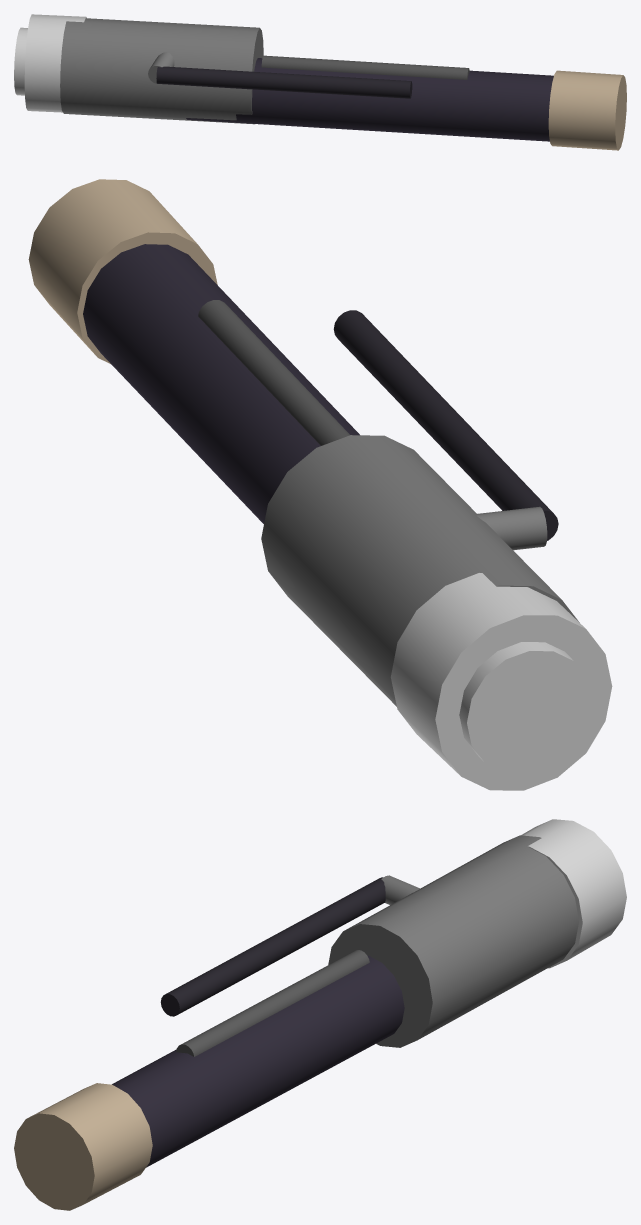
Rendered from CMU3DUtilityRMCFlashlightPenCloud.glb.
The picture shows the model from 3 angles, top to bottom: view 1: azimuth 30°, elevation 25°; view 2: azimuth 150°, elevation 25°; view 3: azimuth 270°, elevation 25°; orthographic projection. The views are drawn at different scales.
Visible parts, largest first — view 1: light head collar, narrow penlight shaft, lower warm end cap, side pocket clip, silver head rim, barrel middle highlight, white lens face, clip return; view 2: light head collar, narrow penlight shaft, silver head rim, white lens face, lower warm end cap, side pocket clip, barrel middle highlight, clip return; view 3: light head collar, narrow penlight shaft, lower warm end cap, silver head rim, side pocket clip, barrel middle highlight, clip return.
Part boxes in pixels (x1,y1,x2,y2): light head collar: (60, 18, 263, 124); narrow penlight shaft: (186, 58, 553, 141); lower warm end cap: (548, 70, 626, 150); side pocket clip: (156, 66, 412, 98); silver head rim: (24, 14, 86, 112); barrel middle highlight: (261, 55, 469, 79); white lens face: (14, 27, 27, 95); clip return: (148, 52, 174, 83); light head collar: (261, 435, 579, 706); narrow penlight shaft: (83, 244, 359, 523); silver head rim: (390, 573, 612, 790); white lens face: (459, 642, 592, 773); lower warm end cap: (28, 179, 217, 363); side pocket clip: (333, 310, 558, 540); barrel middle highlight: (198, 300, 349, 445); clip return: (476, 506, 547, 550); light head collar: (328, 835, 578, 1047); narrow penlight shaft: (112, 955, 404, 1167); lower warm end cap: (14, 1083, 152, 1210); silver head rim: (521, 819, 626, 968); side pocket clip: (160, 877, 385, 1016); barrel middle highlight: (176, 950, 369, 1056); clip return: (381, 875, 420, 904).
Bounding box in the file's own units: 0.4003 × 0.075 × 0.3469.
